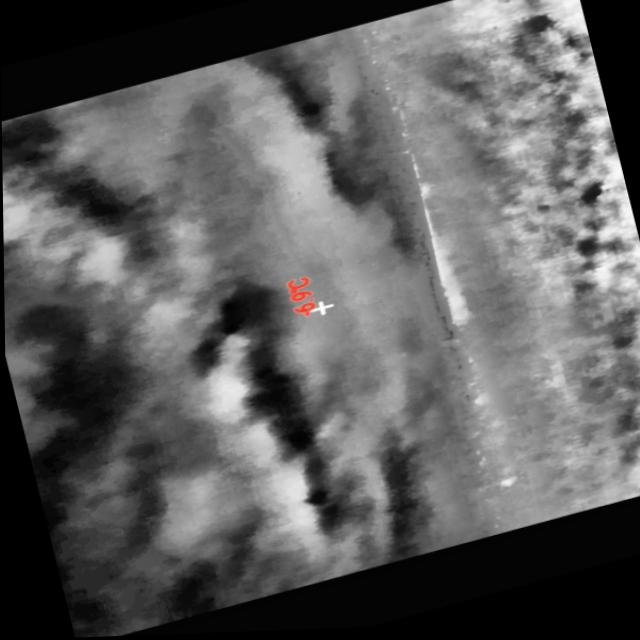drone: (494, 479, 513, 491)
